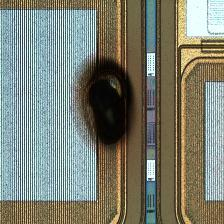PARTICLE: (68, 54, 141, 153)
